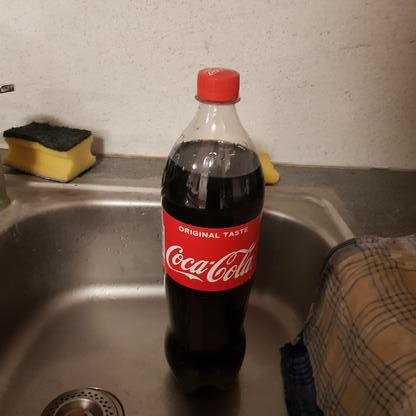coca-cola: (157, 65, 266, 410)
